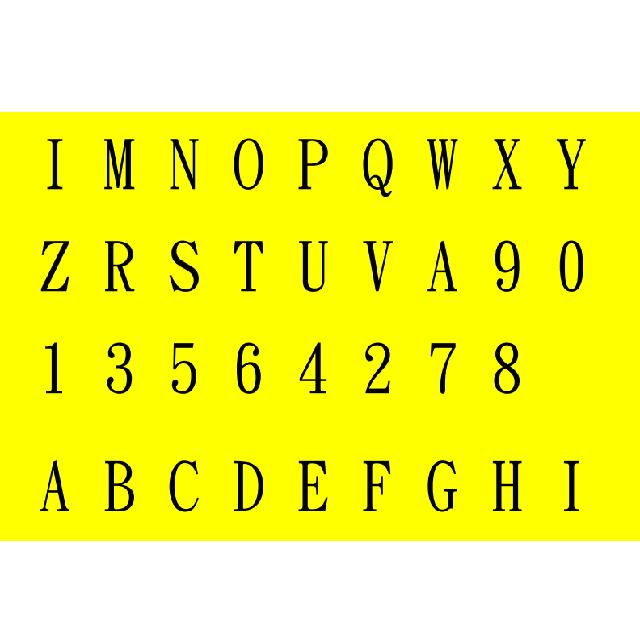0: (557, 238, 585, 300)
1: (41, 338, 69, 400)
2: (362, 335, 393, 401)
3: (107, 341, 136, 399)
4: (300, 343, 333, 399)
5: (169, 334, 198, 399)
6: (232, 337, 261, 399)
7: (428, 338, 457, 400)
8: (492, 337, 522, 400)
9: (492, 233, 522, 295)
A: (37, 456, 77, 518), (421, 244, 460, 295)
B: (103, 454, 139, 519)
C: (164, 445, 204, 510), (168, 458, 205, 512)
D: (229, 458, 264, 518)
E: (297, 452, 335, 517)
F: (358, 454, 392, 517)
G: (422, 460, 460, 518)
H: (486, 454, 524, 516)
I: (41, 130, 71, 198), (558, 449, 585, 516)
M: (101, 136, 141, 198)
N: (168, 137, 202, 198)
O: (229, 135, 271, 195)
P: (293, 136, 328, 198)
Q: (357, 132, 400, 203)
R: (104, 237, 139, 297)
S: (167, 234, 201, 300)
T: (232, 236, 266, 298)
U: (294, 234, 330, 298)
V: (358, 232, 395, 298), (357, 237, 398, 295)
W: (422, 130, 458, 194)
X: (488, 134, 522, 193)
Y: (554, 132, 588, 196)
Z: (39, 236, 75, 296)
